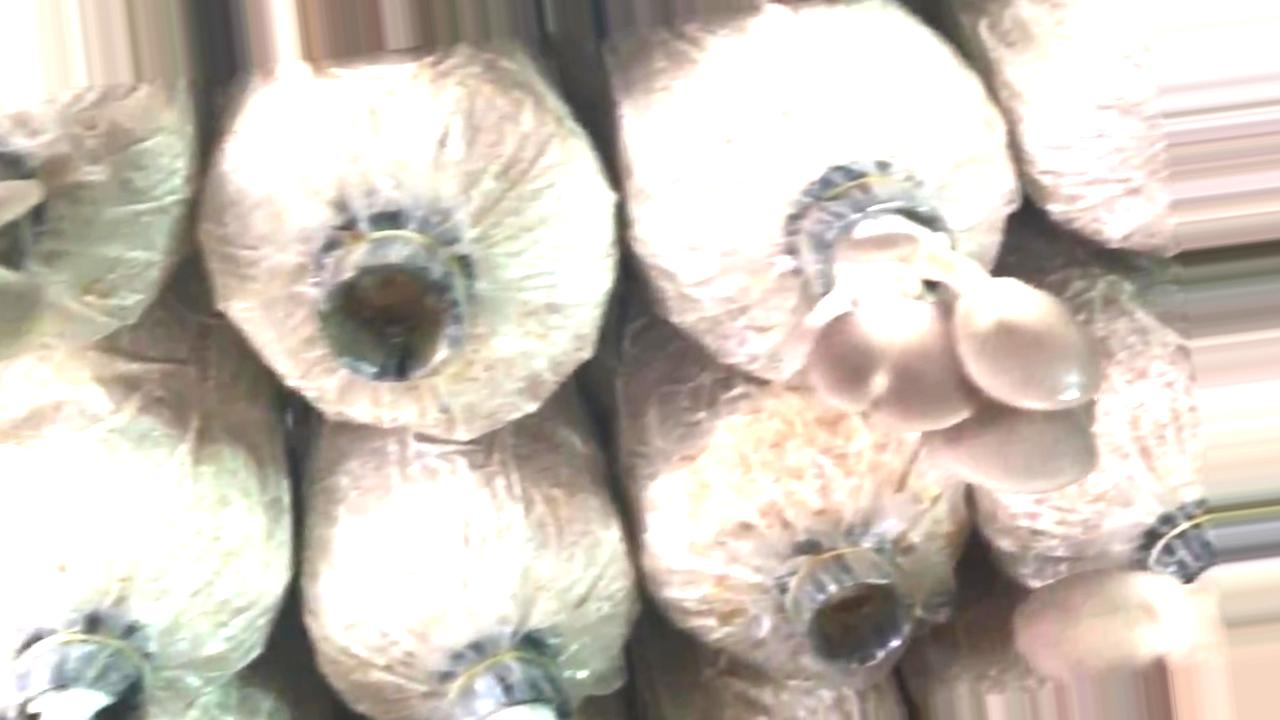nam: (806, 189, 1102, 495)
